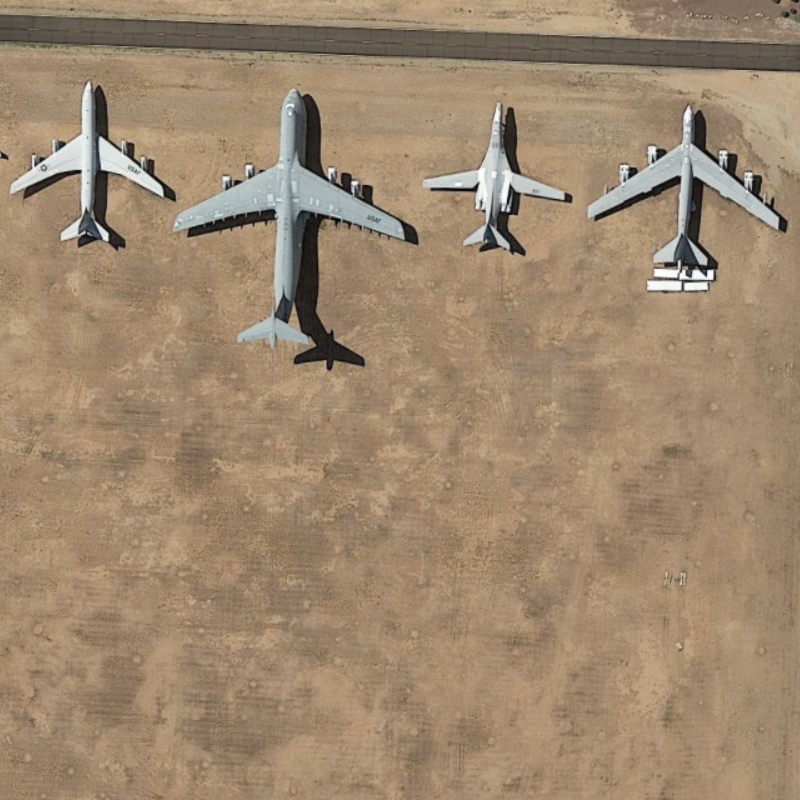A10: (423, 91, 577, 258)
A11: (10, 74, 176, 248)
A4: (179, 78, 410, 361)
A8: (583, 94, 790, 274)
